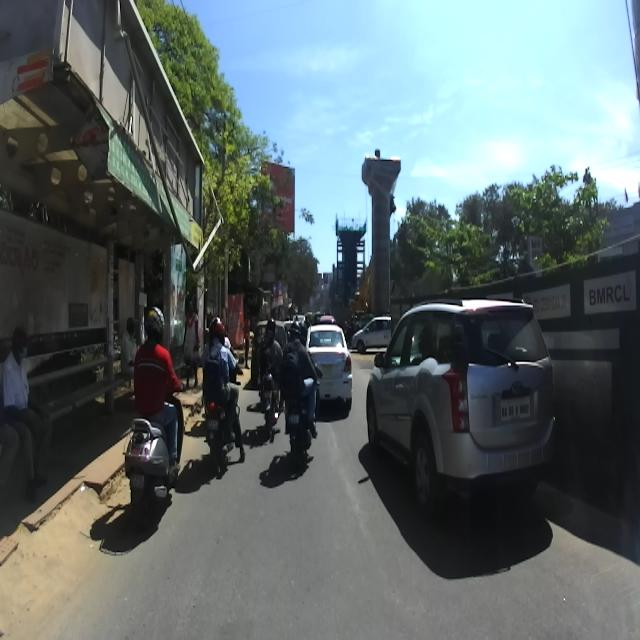car ahead at: (366, 300, 559, 520)
motorcycle ahead at: (121, 415, 178, 520)
person ahead at: (2, 328, 56, 506)
